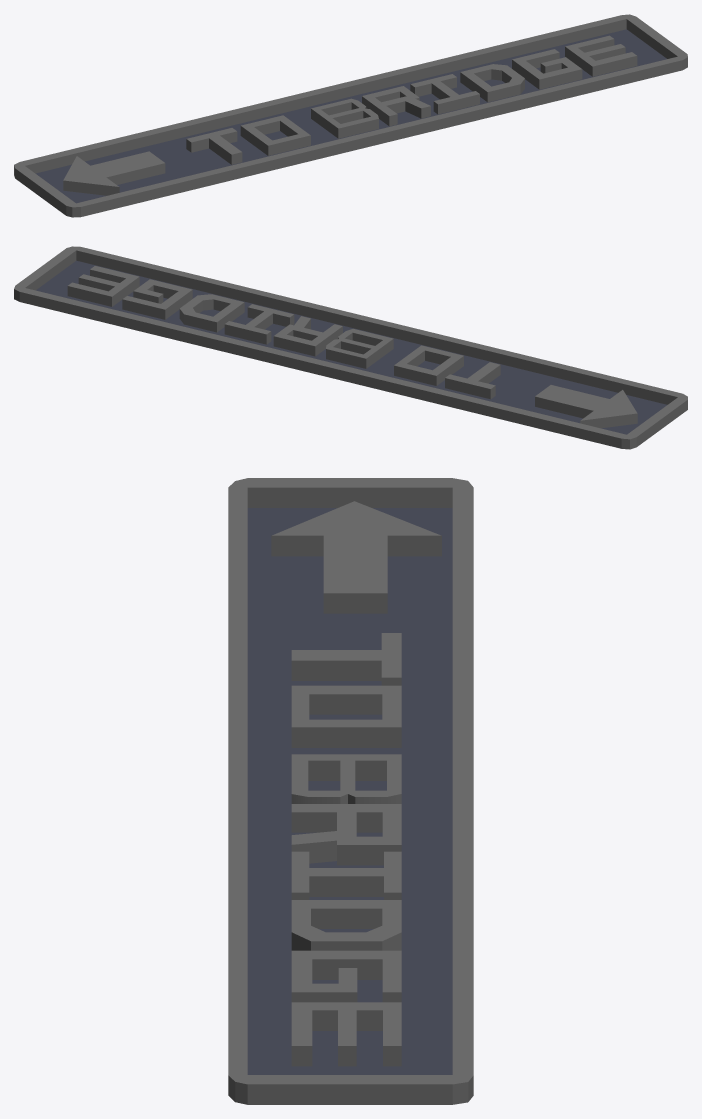
File: mdlToBridgeSign.fbx
The picture shows the model from 3 angles, top to bottom: view 1: azimuth 30°, elevation 25°; view 2: azimuth 150°, elevation 25°; view 3: azimuth 270°, elevation 25°; orthographic projection. The views are drawn at different scales.
Visible parts, largest first — view 1: ToBridgeSign; view 2: ToBridgeSign; view 3: ToBridgeSign.
Boxes of the visible parts, x1=… form: ToBridgeSign: x1=14, y1=14, x2=687, y2=217; ToBridgeSign: x1=14, y1=246, x2=687, y2=449; ToBridgeSign: x1=228, y1=478, x2=473, y2=1104.
Bounding box in the file's own units: 6.87 × 0.108 × 1.18.
Materials: 1 (1 with a texture image).
